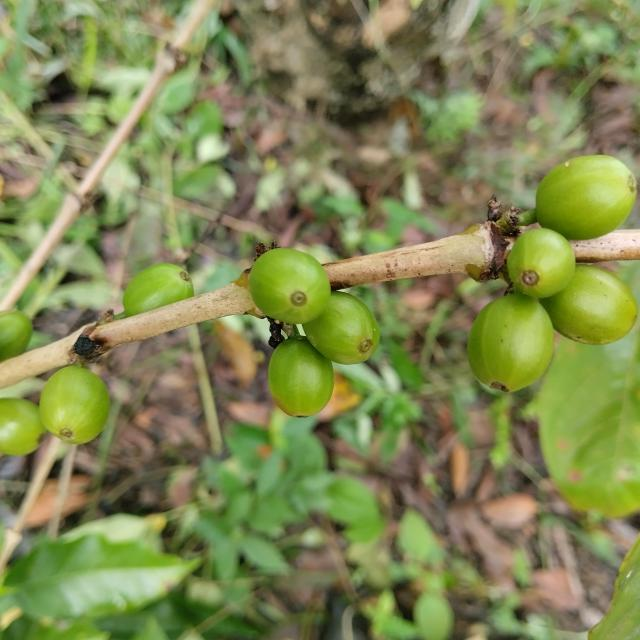green: (468, 293, 555, 392), (537, 155, 638, 240), (541, 264, 639, 345), (249, 248, 331, 324), (302, 291, 380, 365), (38, 366, 109, 445), (268, 336, 334, 418), (508, 228, 576, 298), (122, 263, 194, 317), (0, 398, 45, 456), (0, 311, 32, 362)
